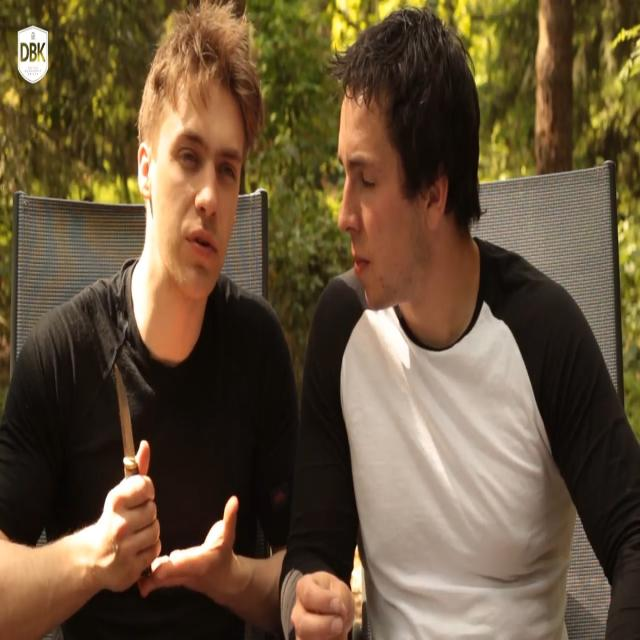knife: (113, 358, 139, 475)
